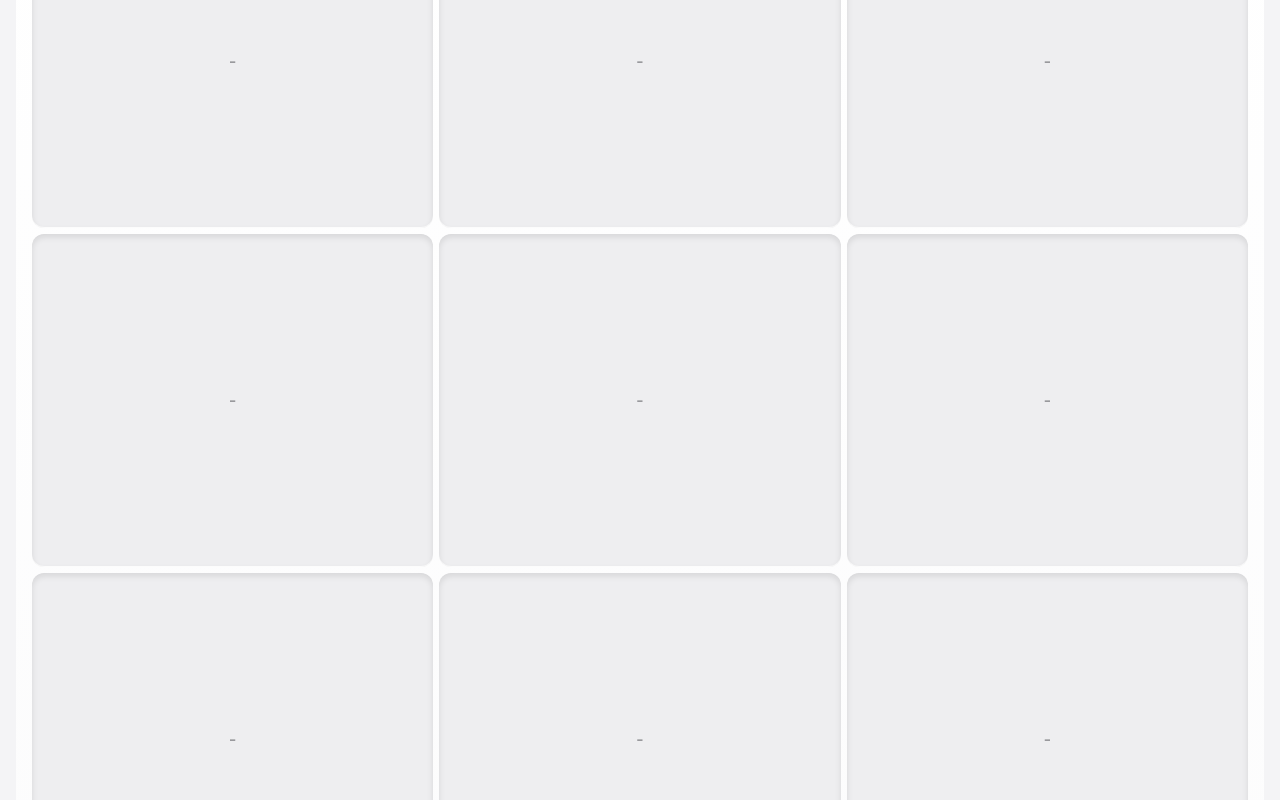
Test case: ComfortReport › changes only the zone that was tapped
The image size is (1280, 800).
(page scrolled)
Click the 5th button with class "label-cell".
click(640, 400)  # box [439,234,841,567]
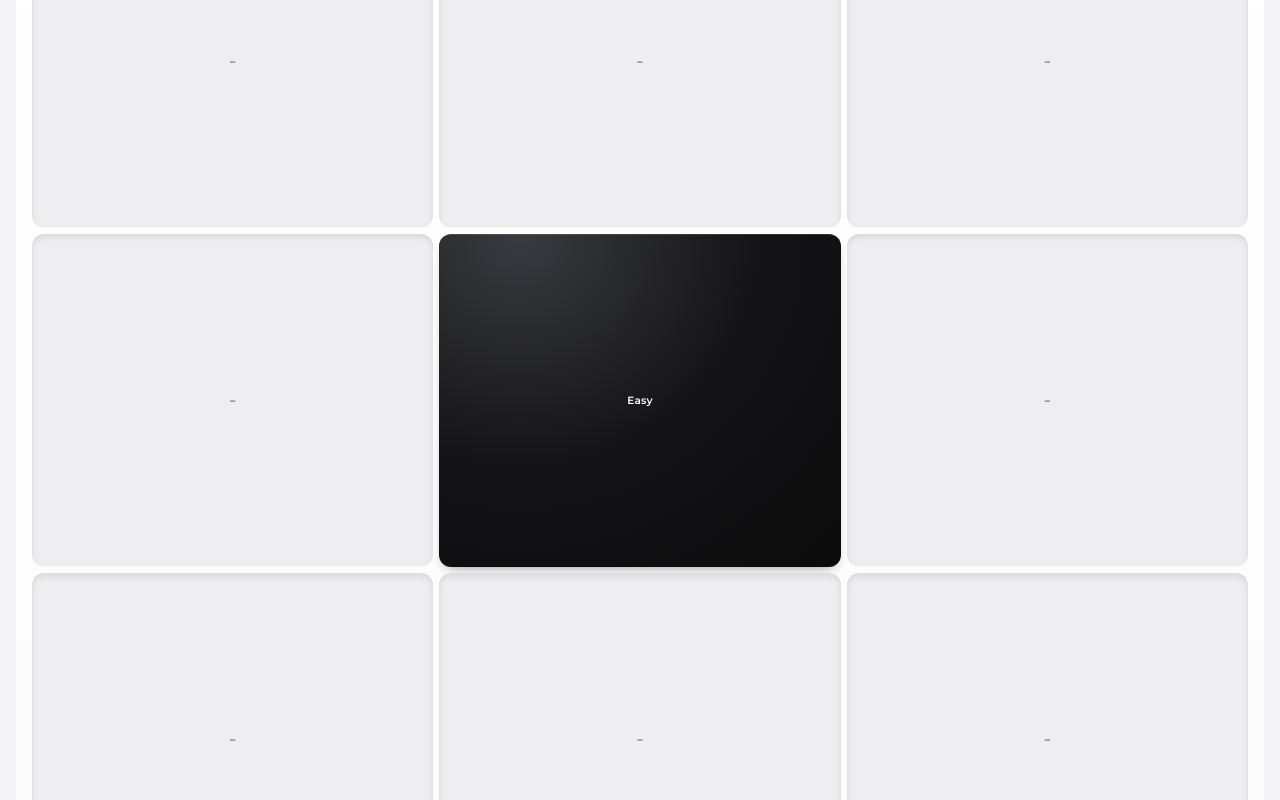
Expected: the button with class "label-cell" has class "is-easy", [439,234,841,567]
